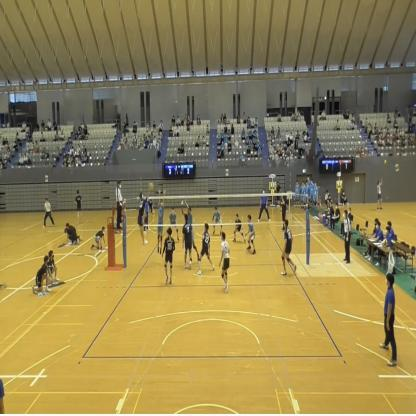spike: (138, 183, 156, 249)
